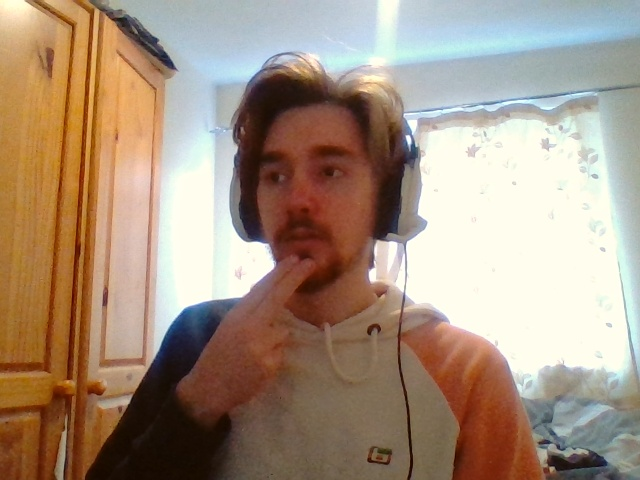afternoon: (209, 253, 316, 394)
